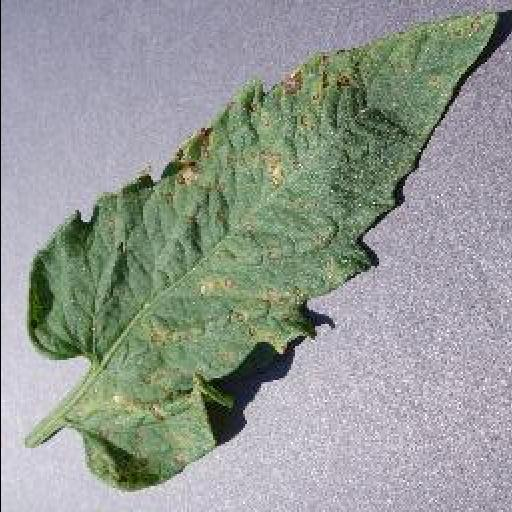disease_tomato: (25, 10, 503, 494)
